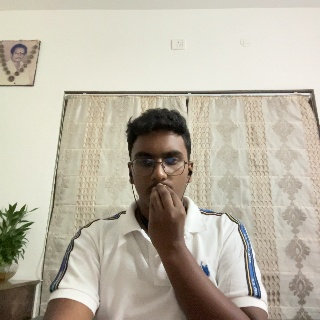Food: (147, 182, 190, 256)
